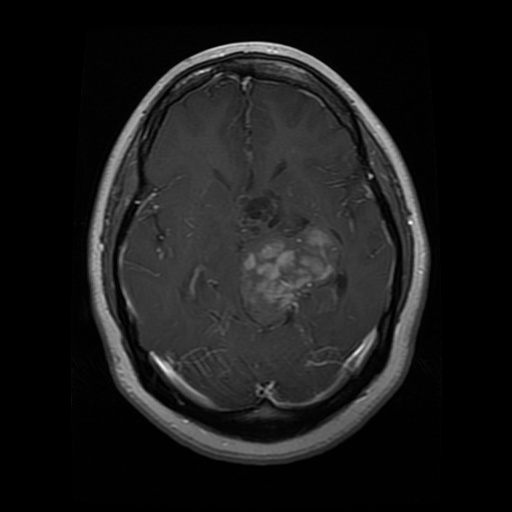glioma: (236, 222, 341, 326)
